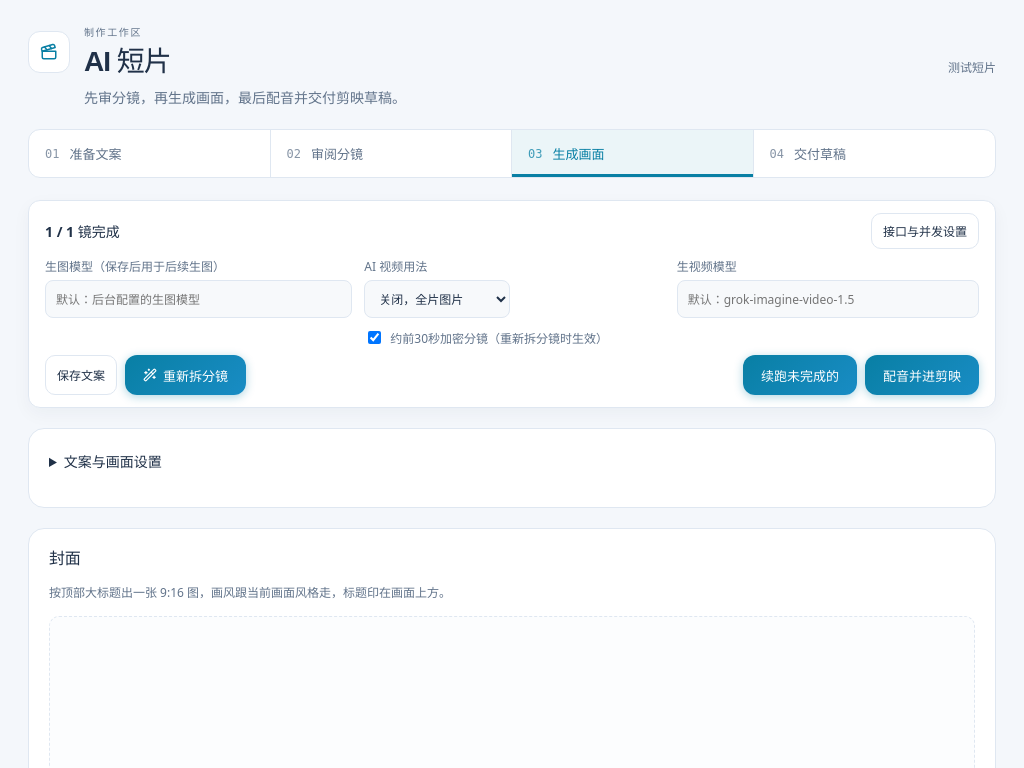
Scenario: enables opening video and saves its model before offering video regeneration
Select "只做开场" in the dropdown labelled "AI 视频用法" at [437, 299], box [364,280,510,318]
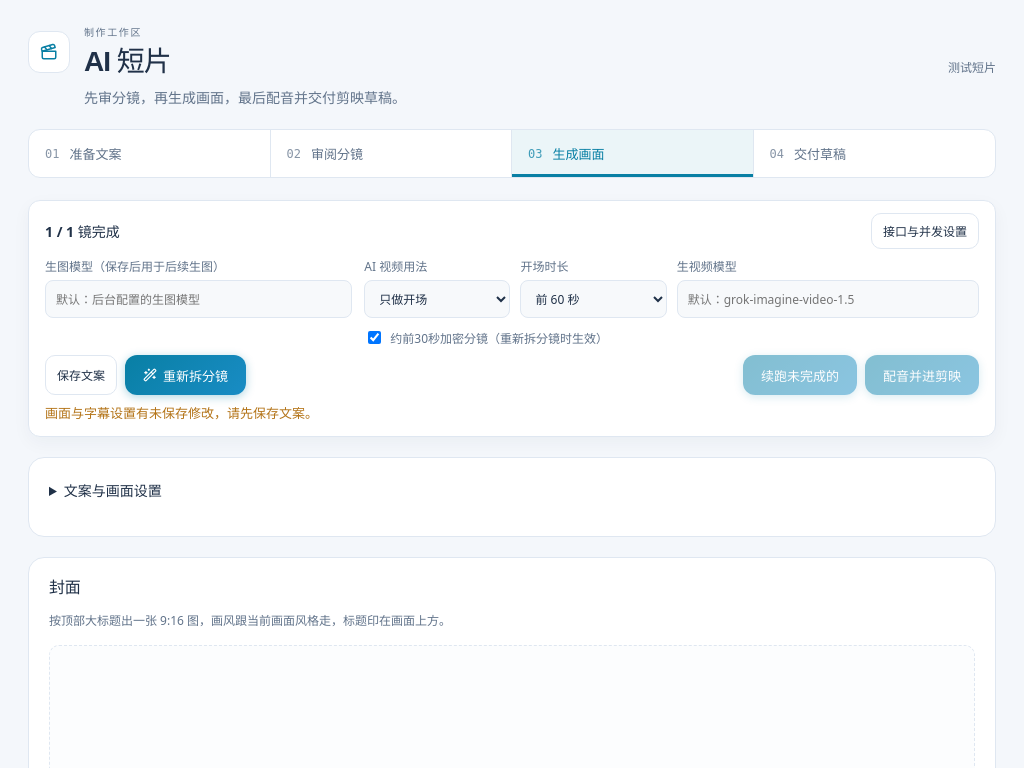
Select "前 60 秒" in the dropdown labelled "开场时长" at [594, 299], box [520,280,667,318]
Type "grok-imagine-video-1.5" into the field labelled "生视频模型" at [828, 299], box [677,280,979,318]
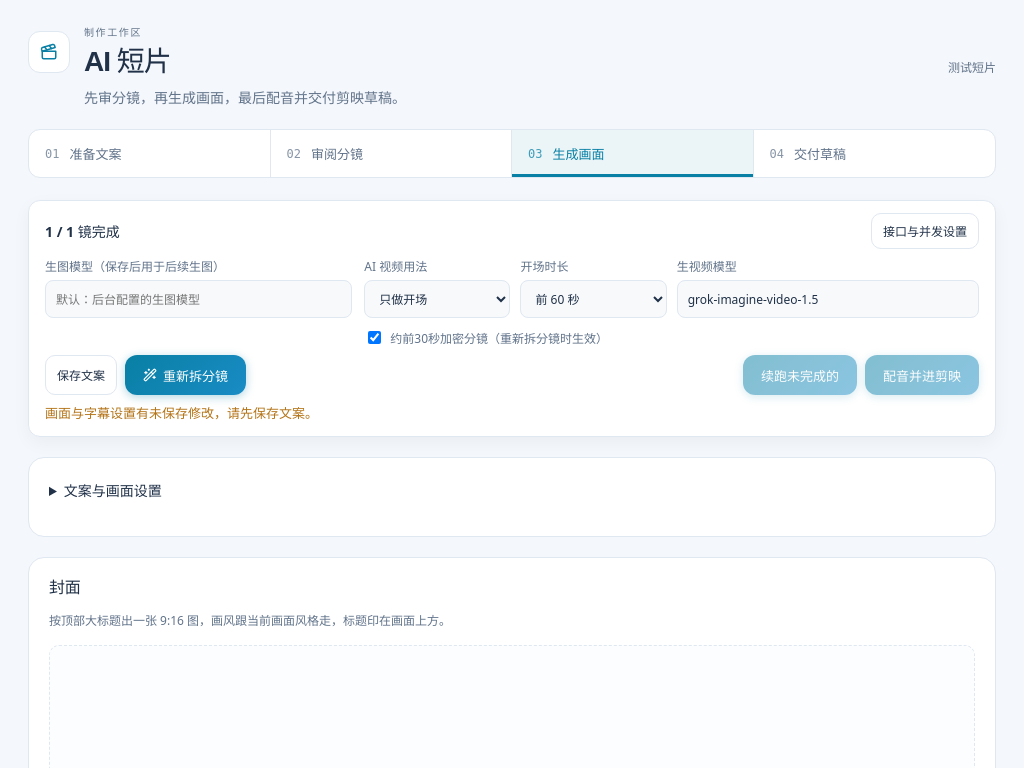
Click the button "保存文案" at [81, 375], box [45,355,117,395]
(page scrolled)
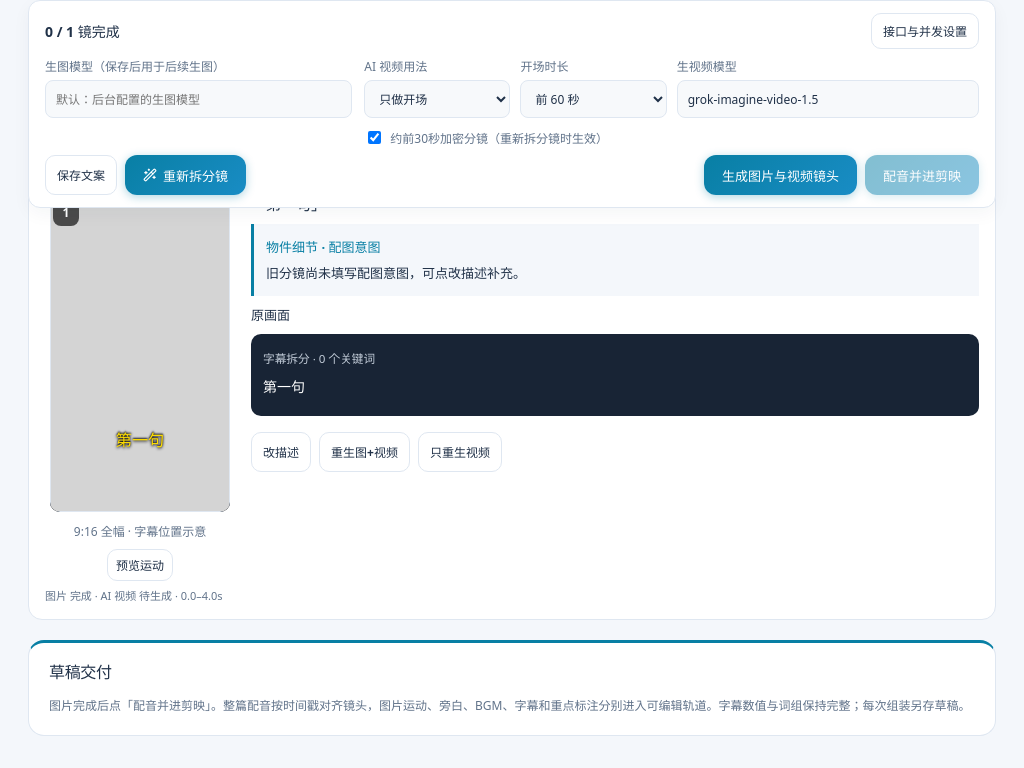
Expected: the button "只重生视频" is enabled, [418,432,502,472]
